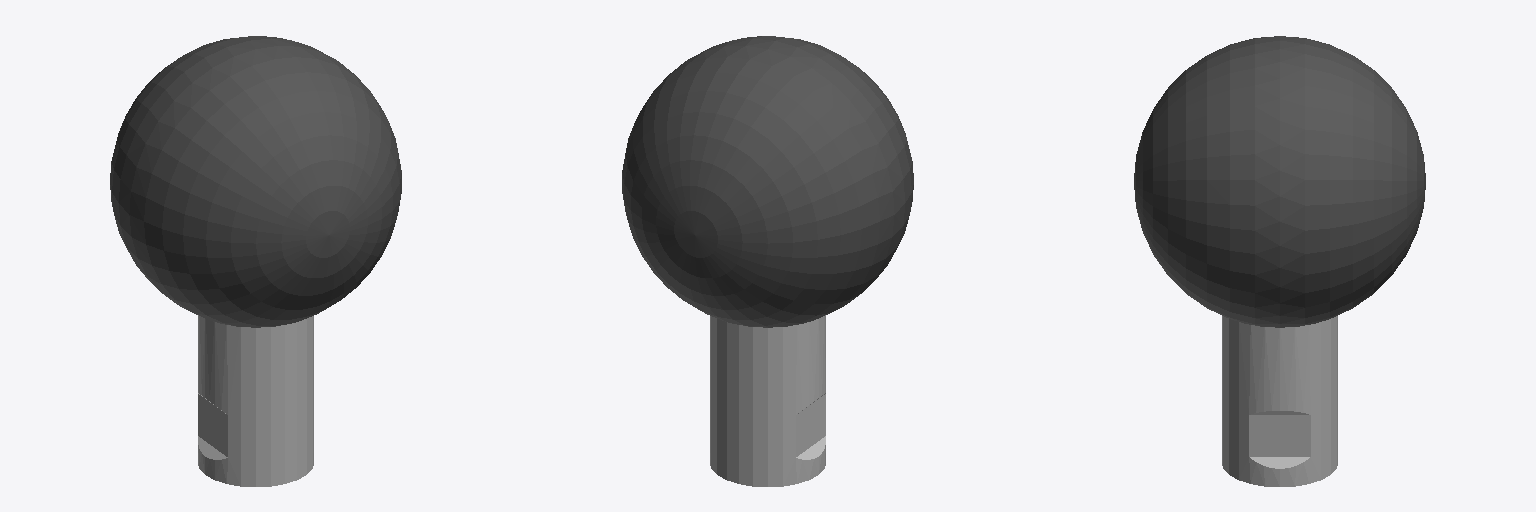
The model's file is ganter_gn_319_5-50-m12-b.obj.
3 views of the same model, side by side, from view 1: azimuth 30°, elevation 25°; view 2: azimuth 150°, elevation 25°; view 3: azimuth 270°, elevation 25° (orthographic).
Parts seen in each view (by area): view 1: ganter_gn_319_5-50-m12-b_1; view 2: ganter_gn_319_5-50-m12-b_1; view 3: ganter_gn_319_5-50-m12-b_1.
Part boxes in pixels (left/top/right/bottom): ganter_gn_319_5-50-m12-b_1: left=110, top=36, right=401, bottom=486; ganter_gn_319_5-50-m12-b_1: left=622, top=36, right=913, bottom=486; ganter_gn_319_5-50-m12-b_1: left=1134, top=36, right=1425, bottom=486.
Bounding box in the file's own units: 49.99 × 78 × 50.